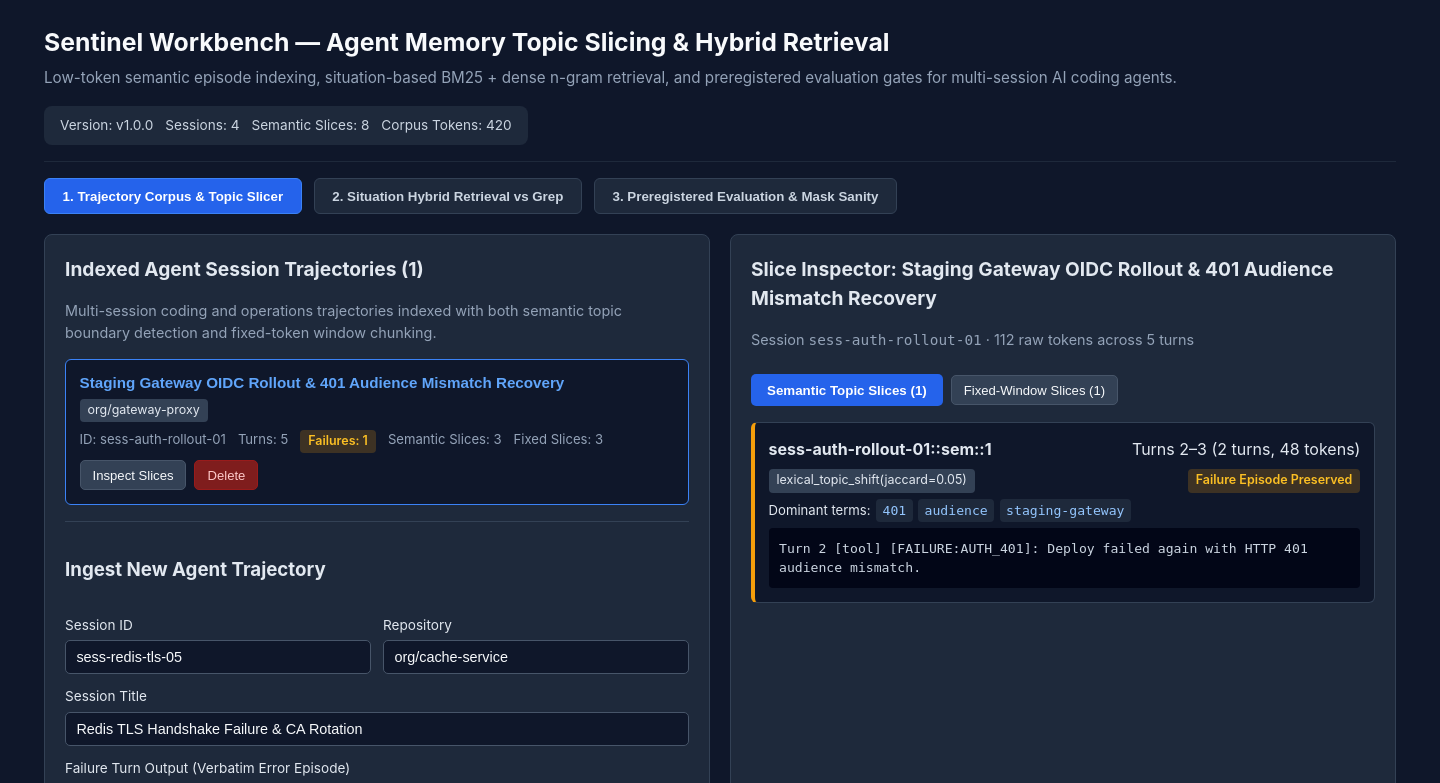
Test: Sentinel Workbench UI › switches to the Preregistered Evaluation tab and verifies candidate mask integrity
Expected: the text "Version: v1.0.0" is shown, [60,115,153,136]
Click the button "3. Preregistered Evaluation & Mask Sanity".
click(746, 196)  # box [594,178,897,214]
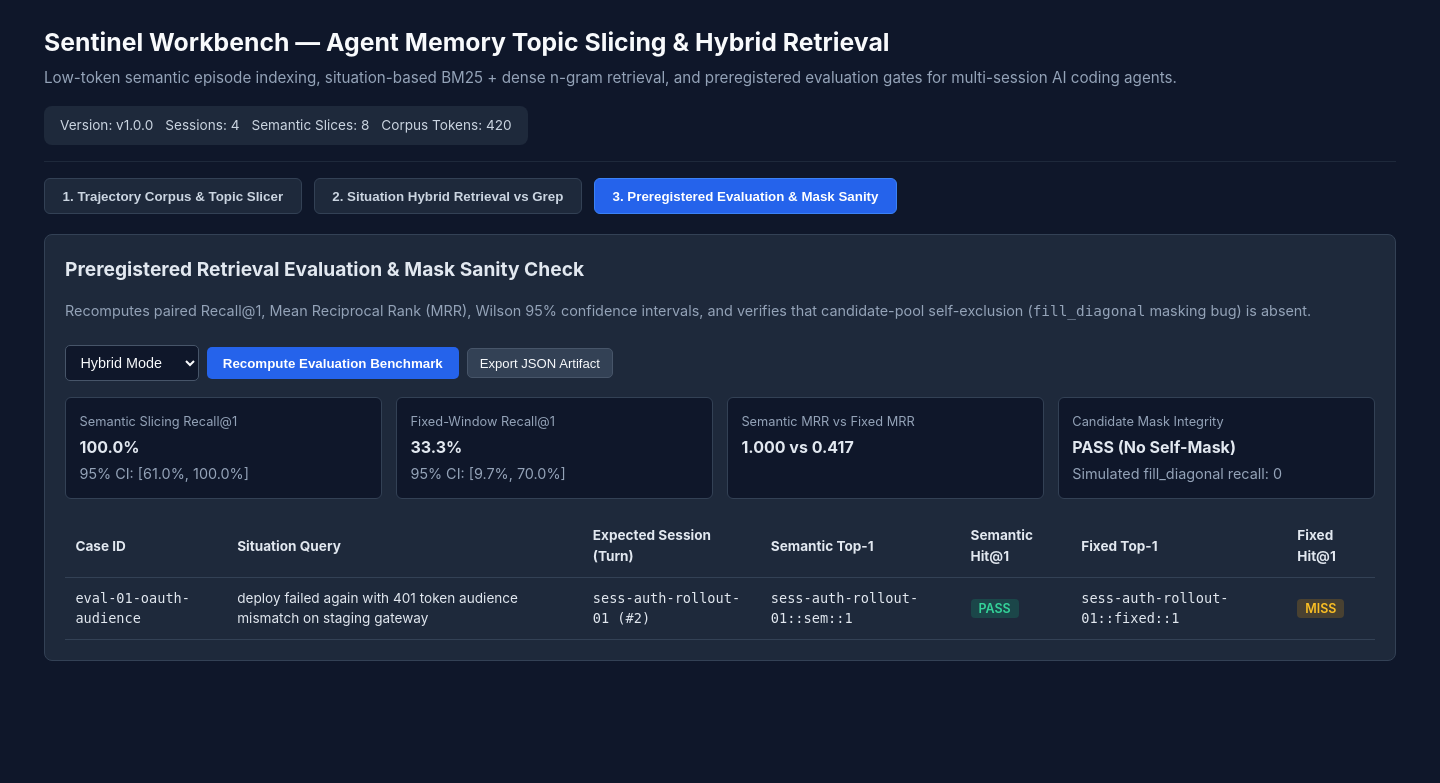
Now the text "PASS (No Self-Mask)" is shown, box [1072,437,1236,457]
Now the text "eval-01-oauth-audience" is shown, box [75,590,190,626]
